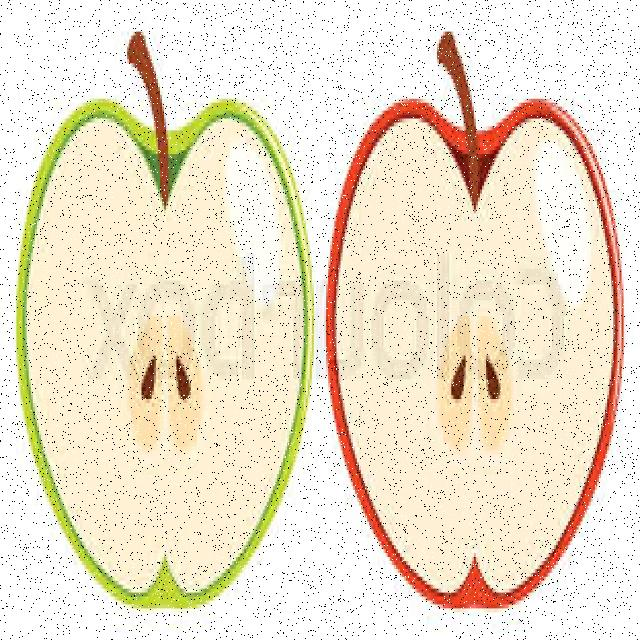Apple: (324, 30, 627, 612), (15, 26, 314, 603)
